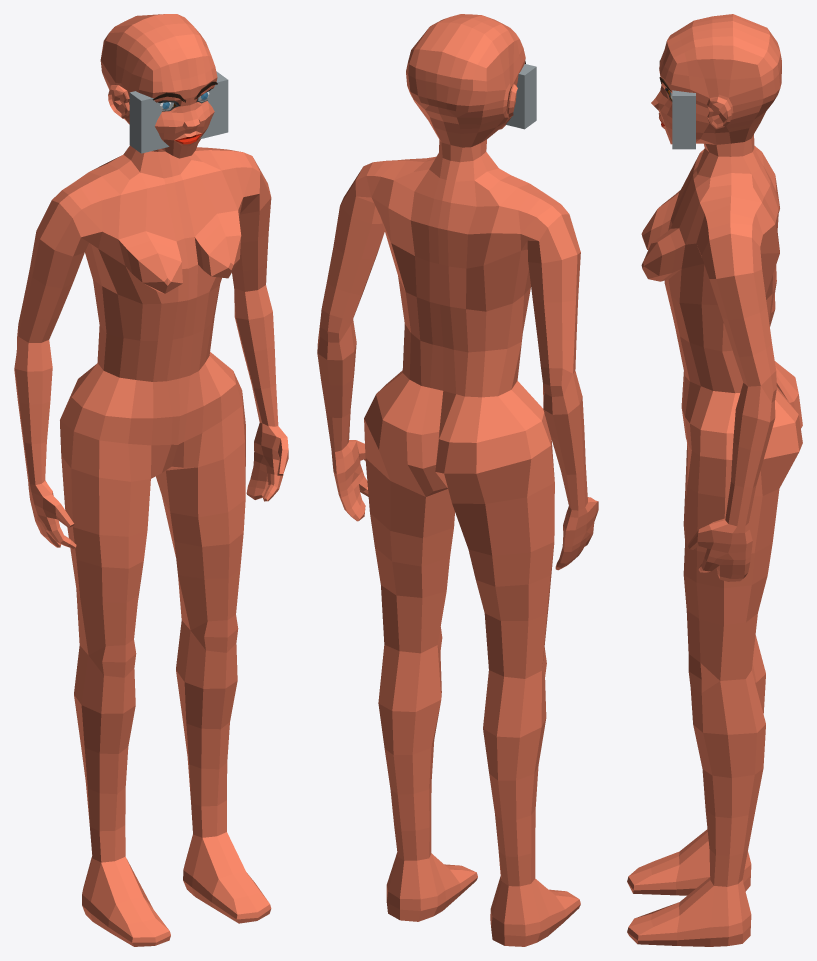
The model's file is Female_Stand_Mask.fbx.
3 renders of one model, left to right at view 1: azimuth 30°, elevation 25°; view 2: azimuth 150°, elevation 25°; view 3: azimuth 270°, elevation 25°, orthographic. The views are drawn at different scales.
Parts seen in each view (by area): view 1: Female_Stand_Mask; view 2: Female_Stand_Mask; view 3: Female_Stand_Mask.
Part boxes in pixels (left/top/right/bottom): Female_Stand_Mask: left=14, top=14, right=288, bottom=946; Female_Stand_Mask: left=317, top=14, right=598, bottom=946; Female_Stand_Mask: left=627, top=14, right=802, bottom=946.
Size of the model in its own units: 0.2788 by 0.9193 by 0.1647.
